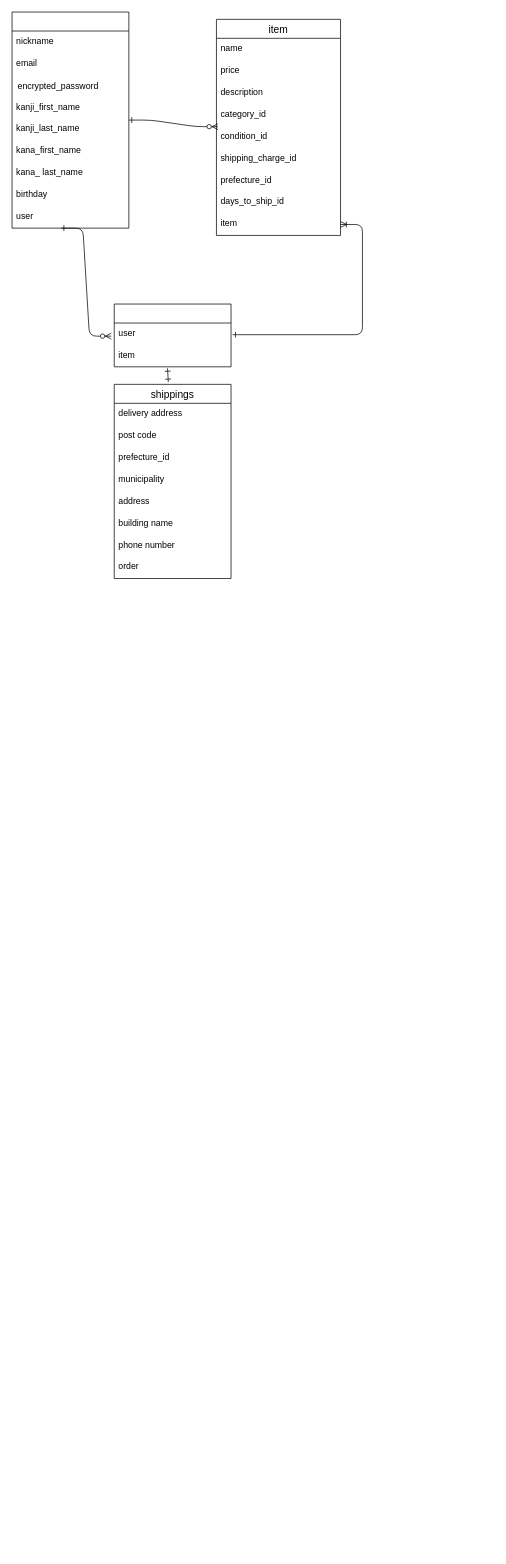
The diagram is 506 pixels wide and 1564 high, and some of its shapes have lost their labels. Each missing label, with the box of its shape:
orders: (114, 303, 231, 367)
users: (11, 11, 129, 228)
